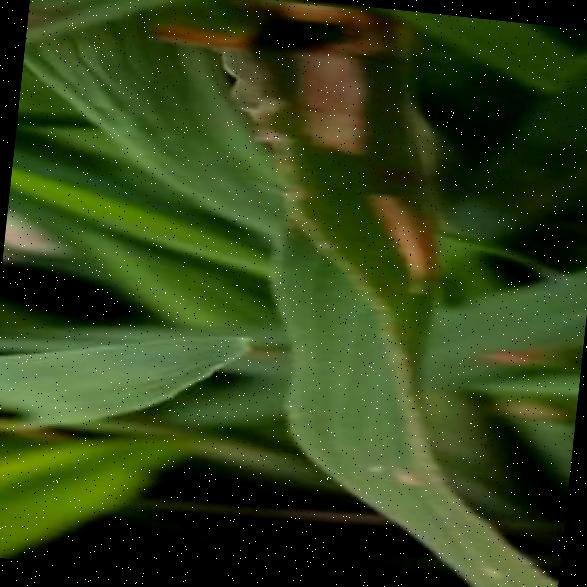Leaf_smut: (268, 29, 405, 172), (344, 172, 455, 308)
